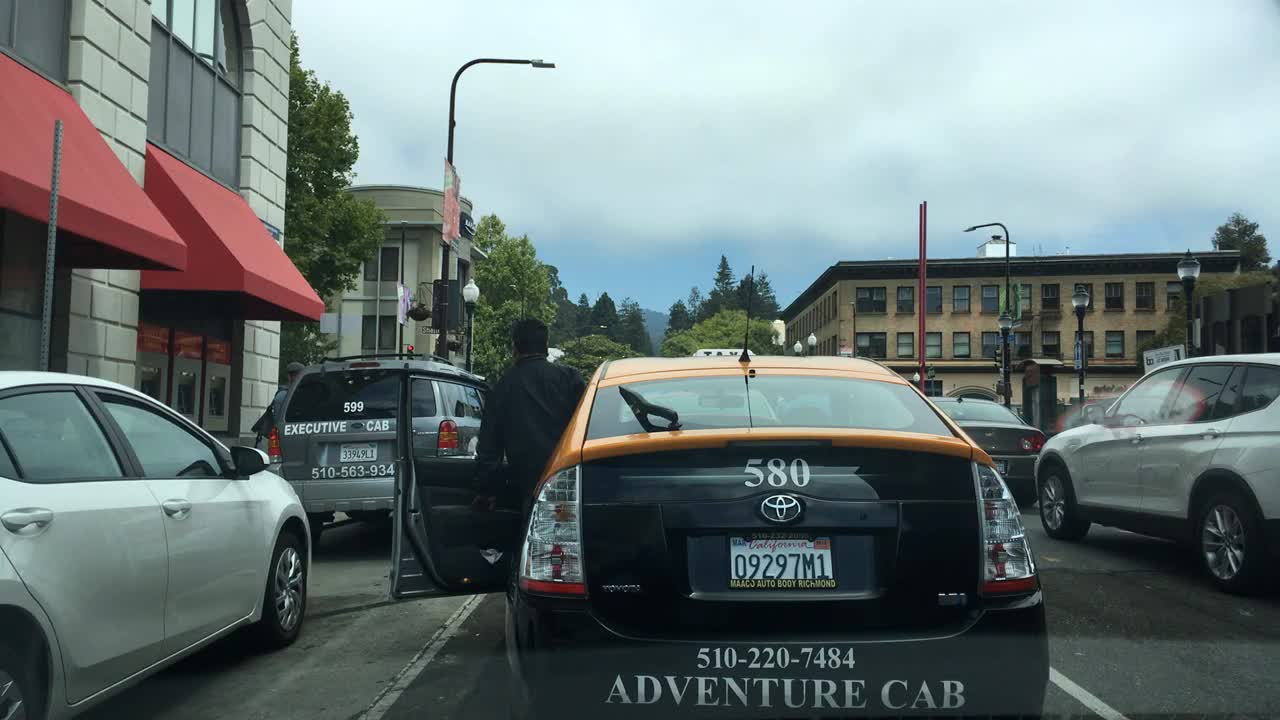car: (383, 263, 1051, 718), (0, 367, 315, 718), (1031, 350, 1279, 595), (273, 354, 487, 546), (924, 387, 1049, 507)
person: (465, 304, 581, 594), (256, 361, 309, 462)
traffic light: (405, 340, 416, 359)
